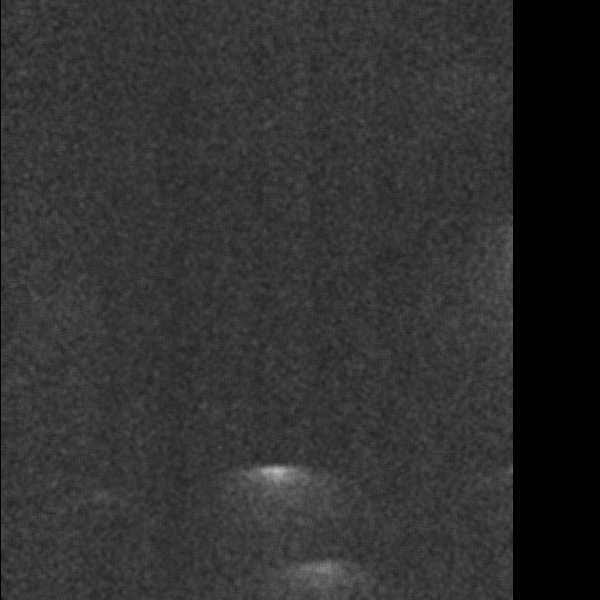spark: (105, 61, 149, 187), (483, 211, 511, 289)
